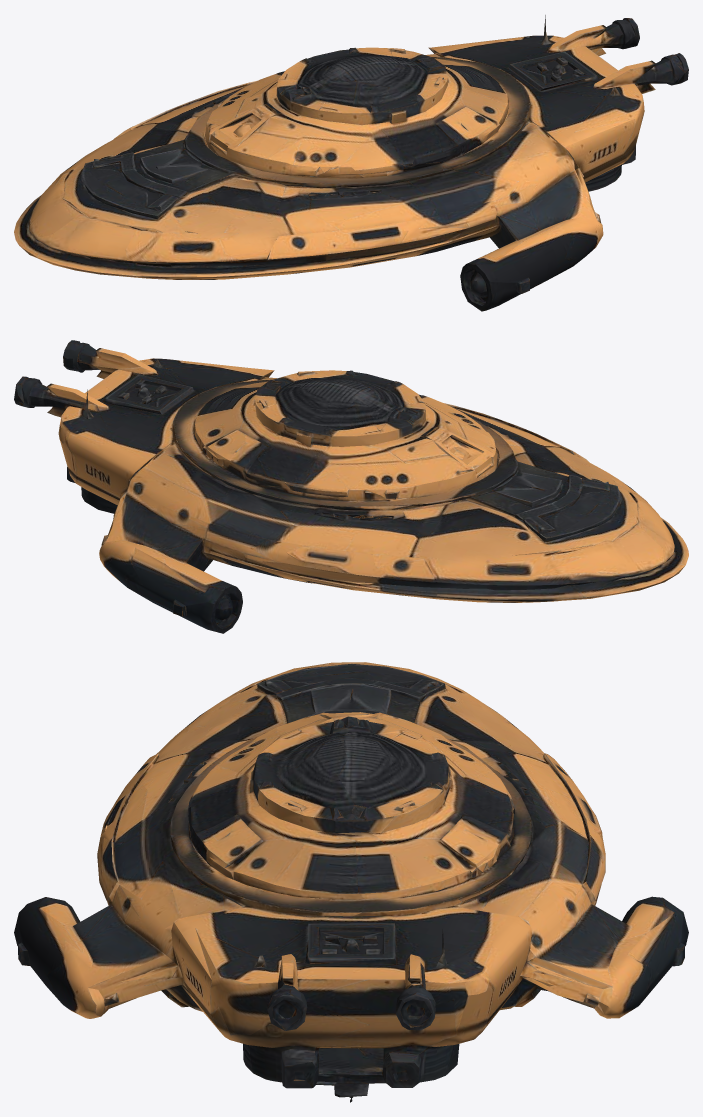
File: enemy-jupiter-fighter.glb
3 views of the same model, one above another, from view 1: azimuth 30°, elevation 25°; view 2: azimuth 150°, elevation 25°; view 3: azimuth 270°, elevation 25° (orthographic). The views are drawn at different scales.
Bounding box in the file's own units: 1.89 × 0.4913 × 1.34.
1 material, 1 textured.
